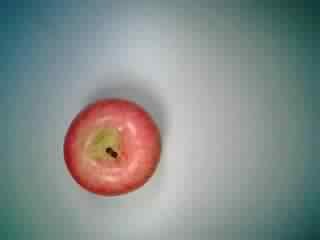apple: (56, 97, 160, 201)
